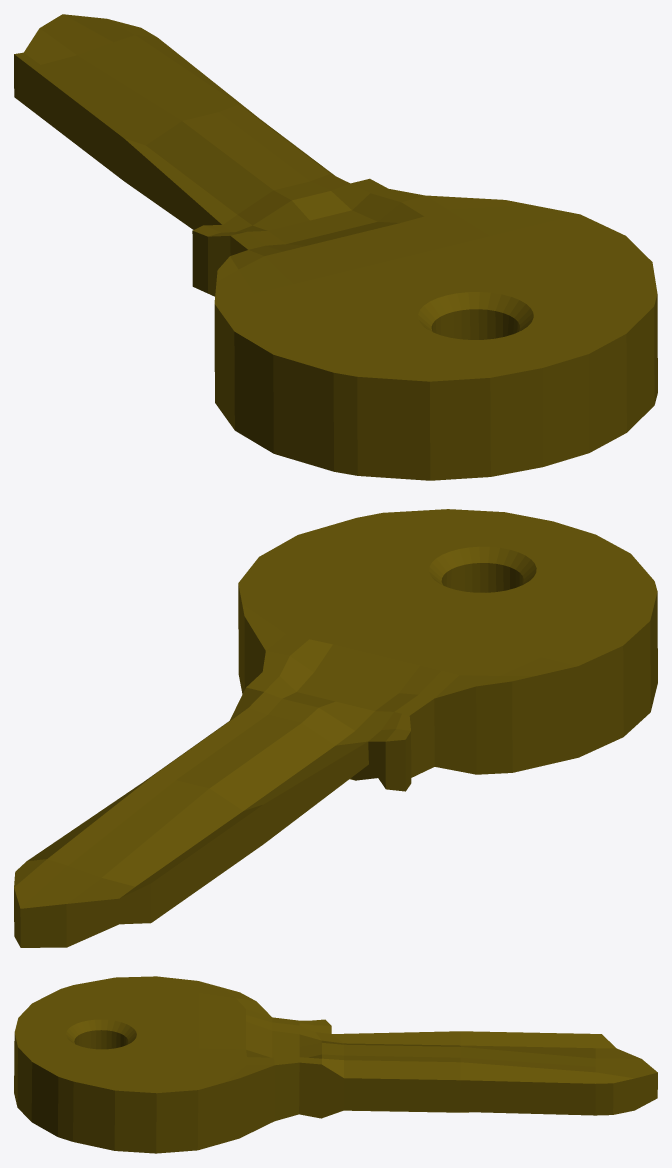
The model's file is Key.fbx.
3 renders of one model, top to bottom at view 1: azimuth 30°, elevation 25°; view 2: azimuth 150°, elevation 25°; view 3: azimuth 270°, elevation 25°, orthographic. The views are drawn at different scales.
Visible parts, largest first — view 1: Cube; view 2: Cube; view 3: Cube.
Boxes of the visible parts, <box> form: Cube: <box>14,14,657,480</box>; Cube: <box>14,509,657,947</box>; Cube: <box>14,976,657,1153</box>.
Size of the model in its own units: 198 by 49.41 by 461.
